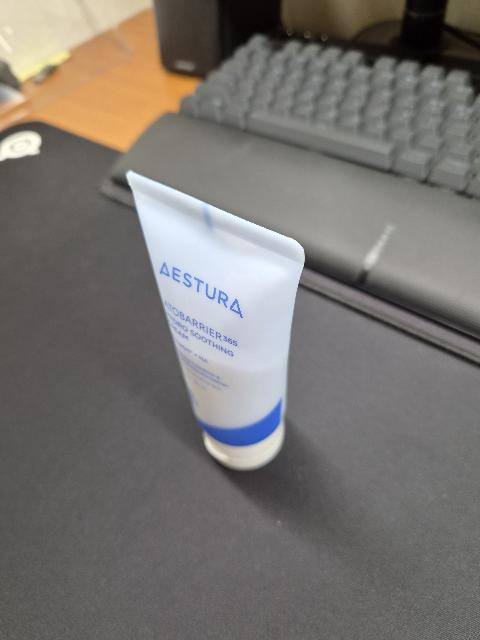handcream: (126, 171, 305, 469)
